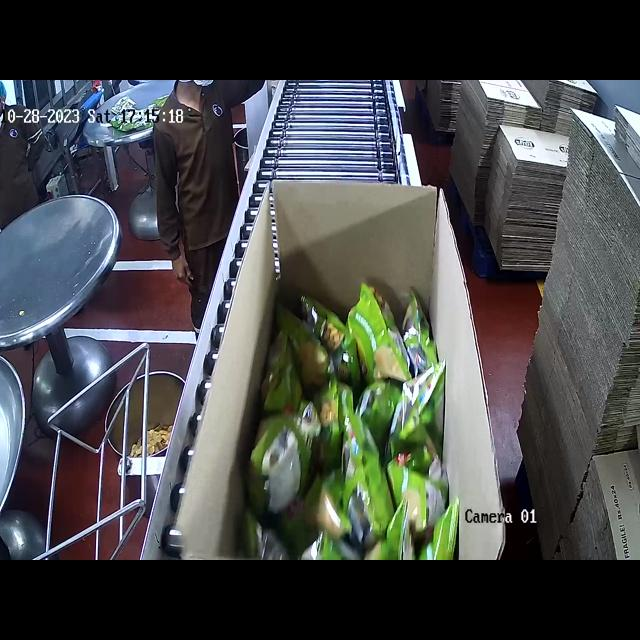yogurt: (247, 281, 450, 558)
